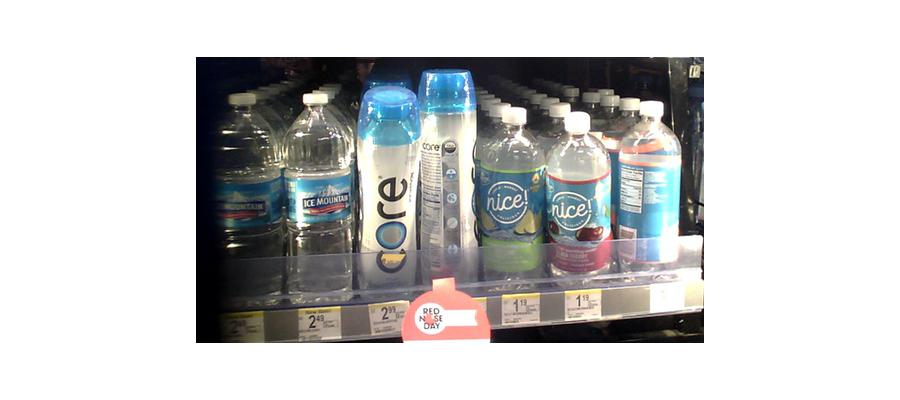bottle: (212, 90, 281, 313), (285, 86, 355, 302), (414, 68, 479, 286), (356, 84, 418, 294), (615, 94, 681, 275), (547, 107, 613, 284), (479, 103, 544, 282)
